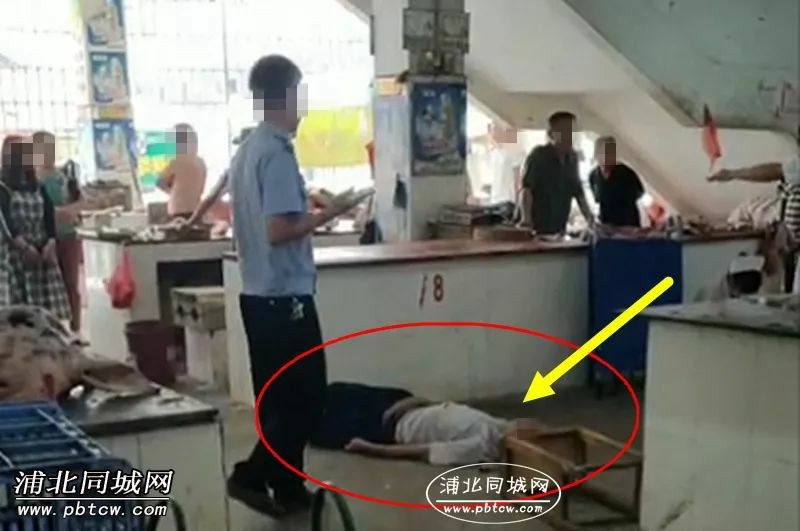fall: (271, 368, 538, 480)
